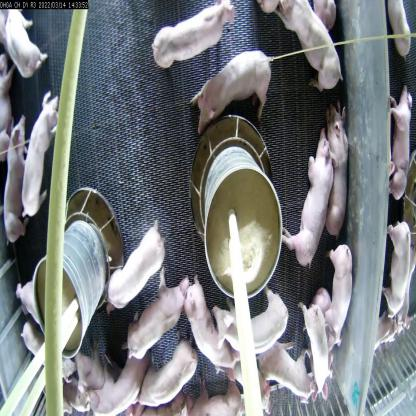Pig: (280, 119, 335, 274), (186, 46, 278, 134), (182, 269, 245, 386), (103, 211, 169, 321), (121, 263, 193, 359), (275, 0, 346, 97), (151, 0, 238, 70), (212, 290, 294, 359), (19, 83, 59, 219), (136, 334, 203, 412), (0, 104, 36, 248), (257, 336, 317, 412), (326, 96, 358, 238), (298, 292, 334, 402), (324, 236, 354, 355), (380, 209, 411, 322), (387, 79, 414, 201)
